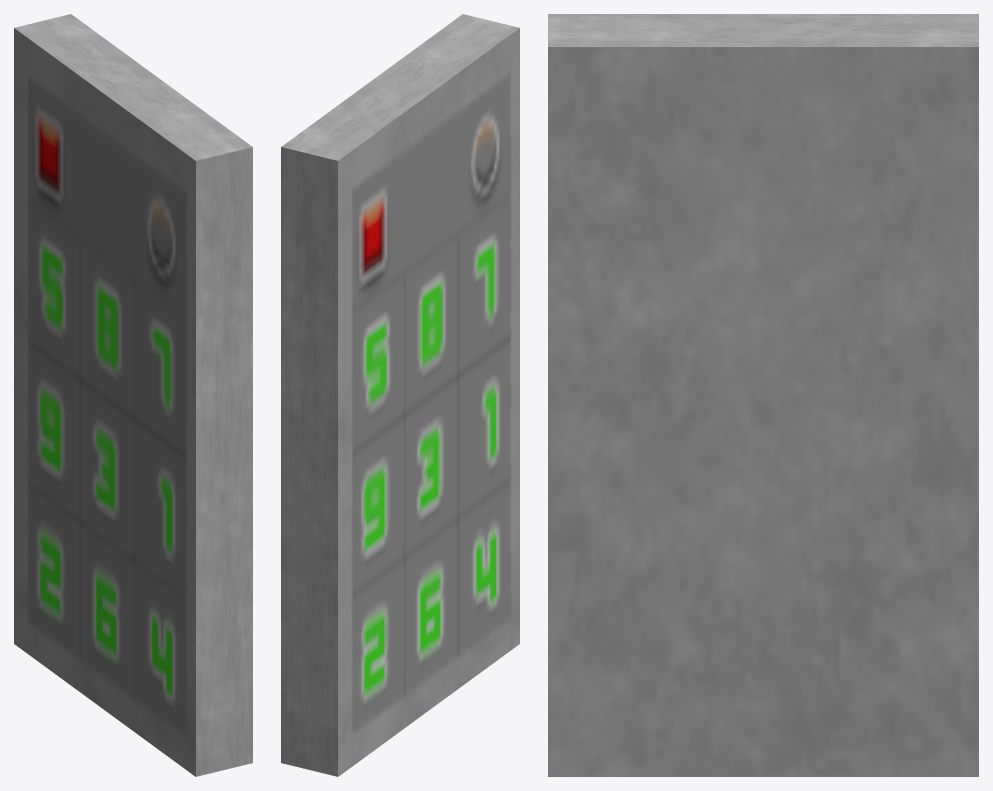
File: code.fbx
3 views of the same model, side by side, from view 1: azimuth 30°, elevation 25°; view 2: azimuth 150°, elevation 25°; view 3: azimuth 270°, elevation 25° (orthographic). The views are drawn at different scales.
Visible parts, largest first — view 1: Porte.029; view 2: Porte.029; view 3: Porte.029.
Boxes of the visible parts, x1,y1,x2,y2 form: Porte.029: (14,14,252,776); Porte.029: (281,14,519,776); Porte.029: (548,14,978,776).
Bounding box in the file's own units: 1.04 × 10.7 × 5.72.
